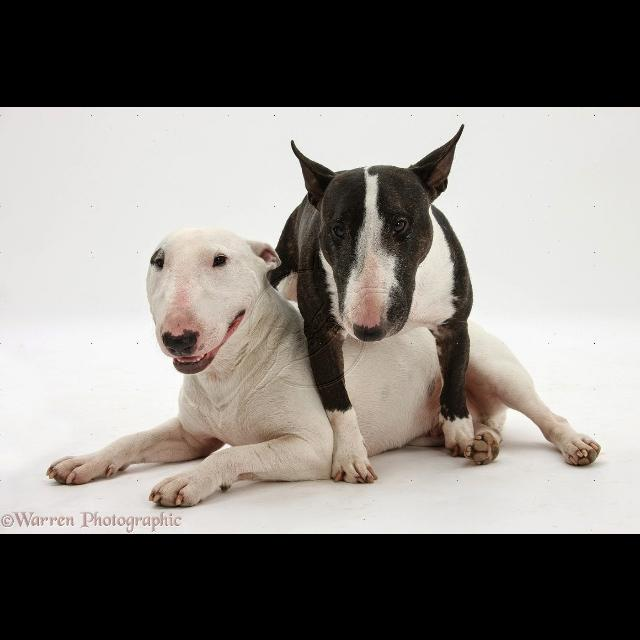bullterrier: (47, 229, 602, 510), (266, 125, 476, 486)
